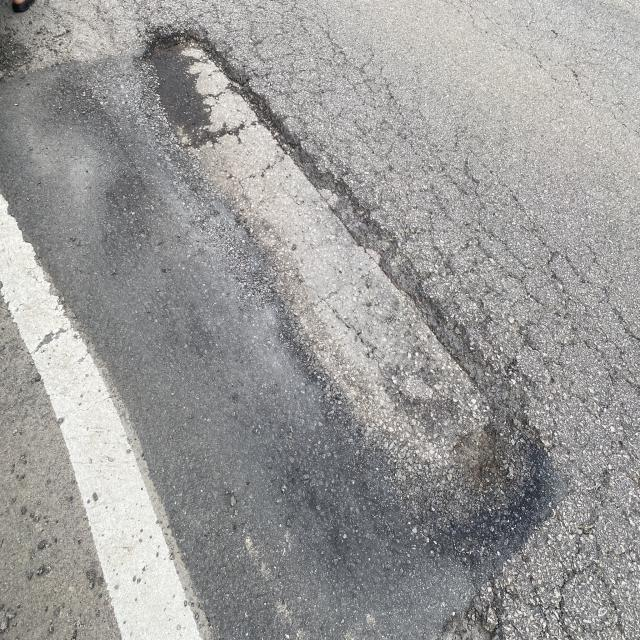pothole: (320, 354, 631, 582), (121, 8, 297, 206)
